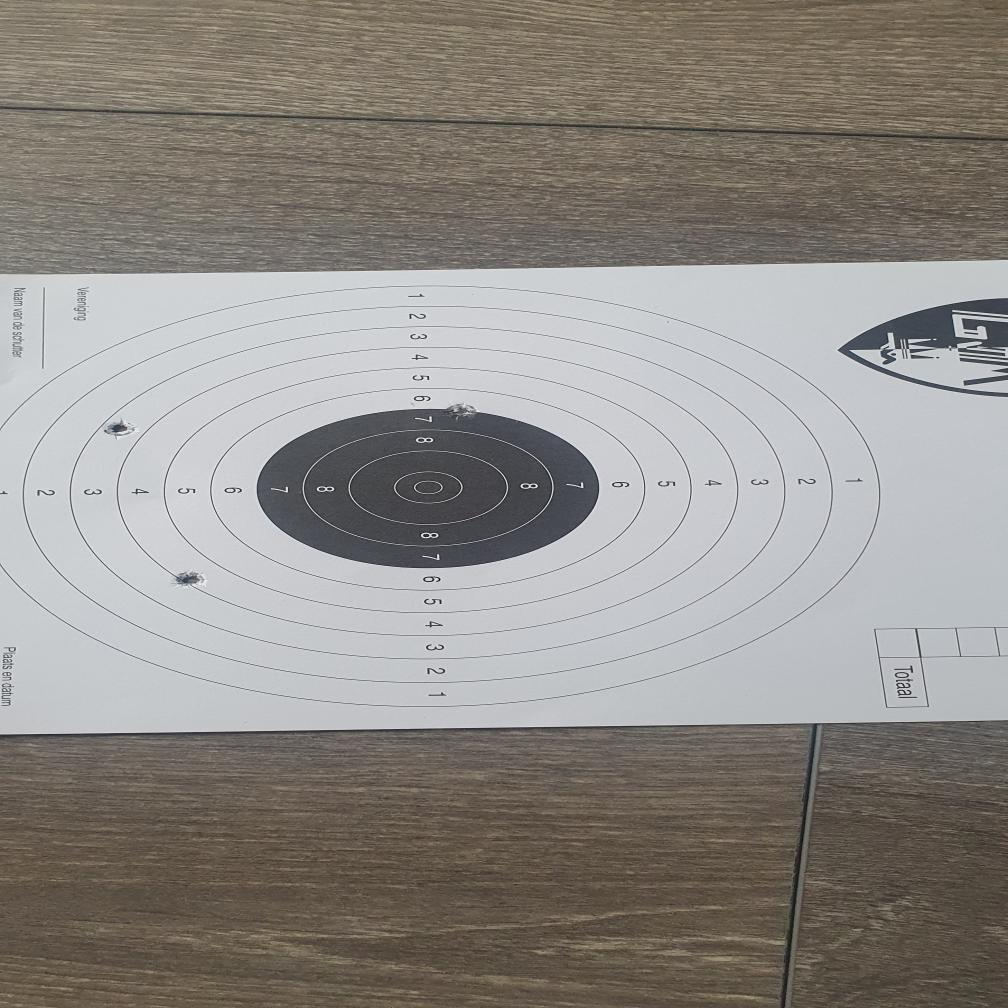3: (98, 418, 142, 440)
4: (166, 568, 212, 589)
7: (441, 401, 480, 422)
Target: (0, 285, 883, 708)
black_contour: (257, 408, 601, 568)
